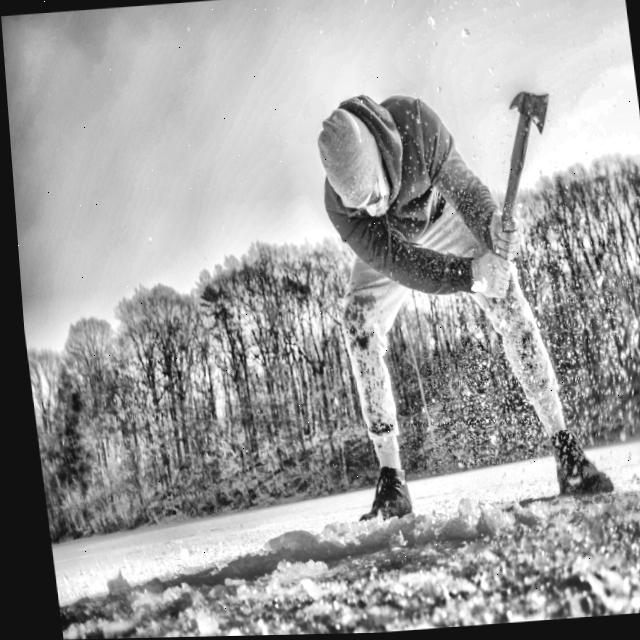kapak: (455, 66, 585, 320)
